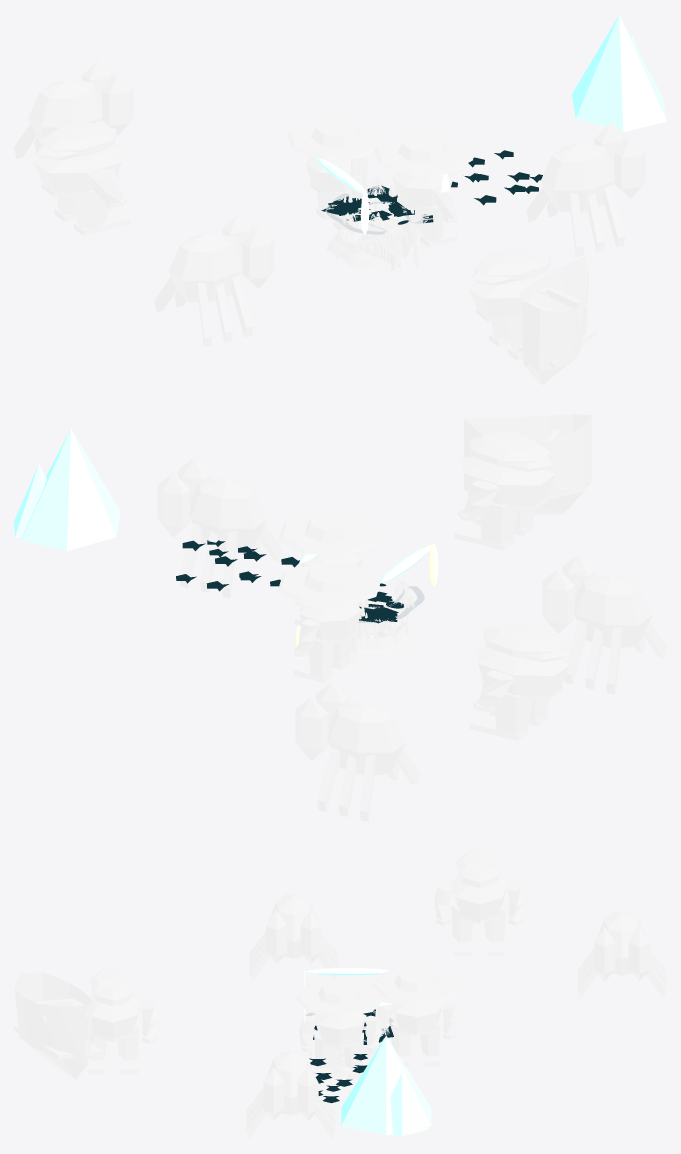
Rendered from ile-engloutie-v5.glb.
The picture shows the model from 3 angles, top to bottom: view 1: azimuth 30°, elevation 25°; view 2: azimuth 150°, elevation 25°; view 3: azimuth 270°, elevation 25°; orthographic projection. The views are drawn at different scales.
Visible parts, largest first — view 1: ile_anime4.008, ile_copie1.005, ile_copie0.009, ile_libre0.012, ile_anime0.014, ile_anime2.014, ile_copie2.004, ile_anime1.014, ile_anime3.012, ile_corps.014, ile_libre3, ile_lumieres.014 (+1 smaller); view 2: ile_copie2.004, ile_anime4.008, ile_copie1.005, ile_copie0.009, ile_anime1.014, ile_libre0.012, ile_anime3.012, ile_anime0.014, ile_anime2.014, ile_corps.014, ile_libre3, ile_lumieres.014 (+2 smaller); view 3: ile_anime0.014, ile_copie0.009, ile_anime2.014, ile_anime3.012, ile_libre0.012, ile_anime1.014, ile_copie2.004, ile_copie1.005, ile_anime4.008, ile_corps.014, ile_lumieres.014.
Boxes of the visible parts, x1,y1,x2,y2 form: ile_anime4.008: (154, 212, 273, 346); ile_copie1.005: (526, 122, 645, 256); ile_copie0.009: (34, 122, 130, 235); ile_libre0.012: (572, 14, 666, 131); ile_anime0.014: (518, 256, 598, 385); ile_anime2.014: (373, 132, 472, 247); ile_copie2.004: (14, 59, 133, 158); ile_anime1.014: (468, 247, 556, 360); ile_anime3.012: (287, 117, 385, 229); ile_corps.014: (326, 148, 426, 271); ile_libre3: (321, 185, 433, 234); ile_lumieres.014: (316, 157, 449, 235); ile_copie2.004: (295, 681, 420, 821); ile_anime4.008: (542, 554, 666, 694); ile_copie1.005: (157, 458, 282, 597); ile_copie0.009: (469, 622, 569, 740); ile_anime1.014: (454, 432, 555, 550); ile_libre0.012: (14, 429, 120, 551); ile_anime3.012: (277, 562, 380, 682); ile_anime0.014: (464, 414, 592, 514); ile_anime2.014: (278, 511, 382, 625); ile_corps.014: (343, 565, 417, 665); ile_libre3: (358, 583, 424, 623); ile_lumieres.014: (295, 542, 438, 657); ile_anime0.014: (14, 972, 103, 1079); ile_copie0.009: (434, 850, 524, 956); ile_anime2.014: (295, 978, 384, 1078); ile_anime3.012: (372, 966, 461, 1066); ile_libre0.012: (341, 1035, 431, 1136); ile_anime1.014: (70, 968, 157, 1074); ile_copie2.004: (577, 911, 666, 999); ile_copie1.005: (246, 1051, 335, 1139); ile_anime4.008: (249, 894, 338, 982); ile_corps.014: (304, 983, 389, 1079); ile_lumieres.014: (304, 968, 393, 1023).
Size of the model in its own units: 12.87 by 3.49 by 14.51.
